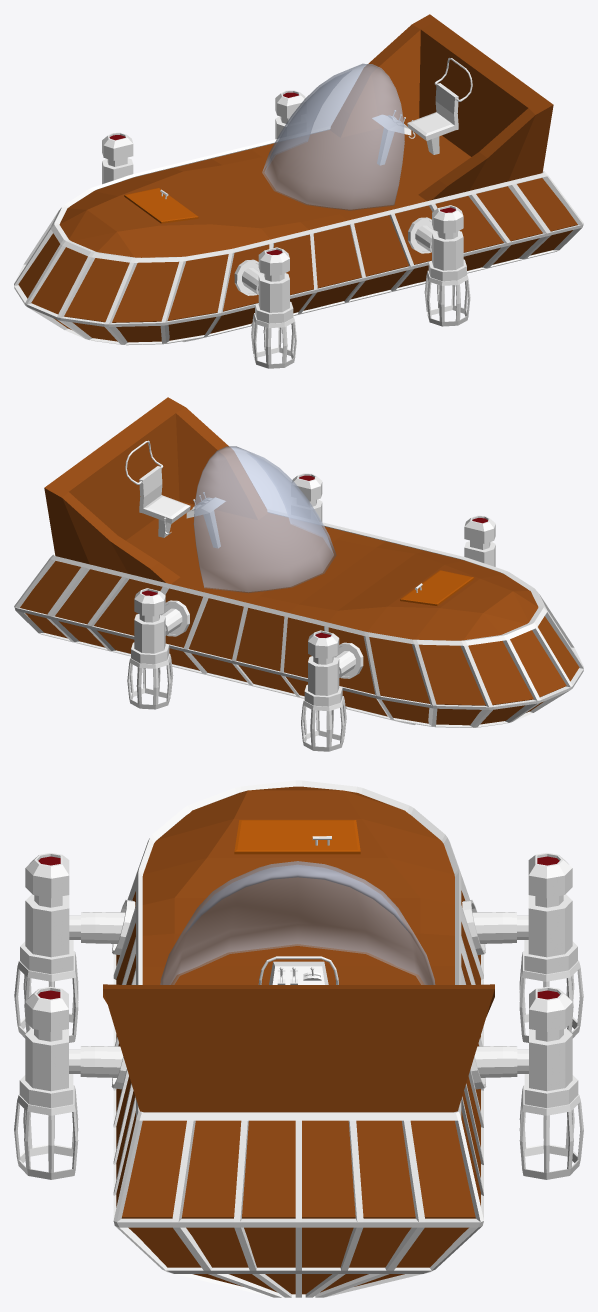
Rendered from PlayerAirship.fbx.
3 renders of one model, top to bottom at view 1: azimuth 30°, elevation 25°; view 2: azimuth 150°, elevation 25°; view 3: azimuth 270°, elevation 25°, orthographic. The views are drawn at different scales.
Visible parts, largest first — view 1: PlayerShip; view 2: PlayerShip; view 3: PlayerShip.
Boxes of the visible parts, x1=… form: PlayerShip: x1=14, y1=14, x2=583, y2=368; PlayerShip: x1=14, y1=397, x2=583, y2=751; PlayerShip: x1=14, y1=780, x2=583, y2=1297.
Size of the model in its own units: 3153 by 1362 by 1965.
